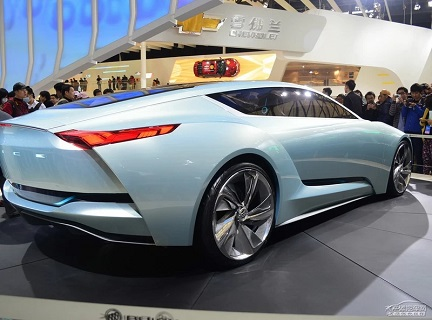别克-Riviera: (6, 78, 419, 265)
